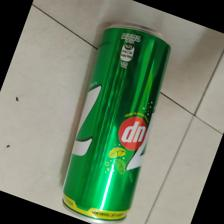7up: (61, 20, 173, 224)
